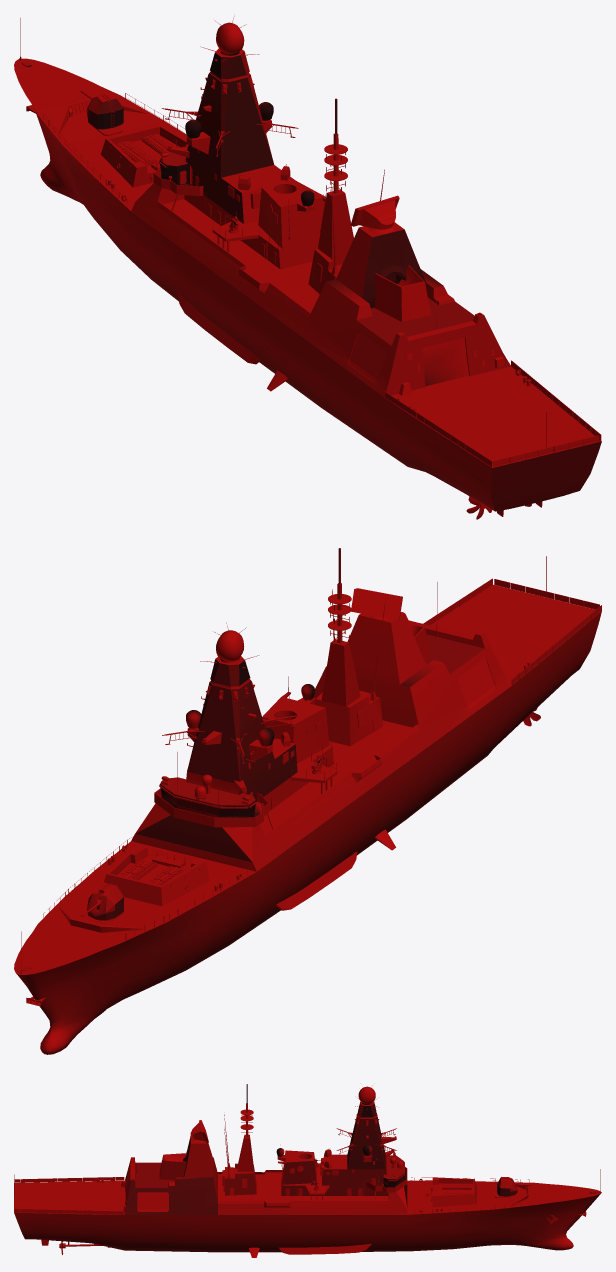
File: Full Ship Model 5.fbx
3 renders of one model, top to bottom at view 1: azimuth 30°, elevation 25°; view 2: azimuth 150°, elevation 25°; view 3: azimuth 270°, elevation 25°, orthographic. The views are drawn at different scales.
Parts seen in each view (by area): view 1: Hull, MainDeckBits, FrontParts, O:Wheelhouse, Stabilisers, LRR, RHIB_Door_Port, T45_Radar, Flight_Nets_Port, Flight_Nets_Rear; view 2: Hull, MainDeckBits, FrontParts, O:Wheelhouse, LRR, Stabilisers, RHIB_Door_Port, T45_Radar, Flight_Nets_Rear, O:Wheelhouse_Windows; view 3: Hull, MainDeckBits, FrontParts, O:Wheelhouse, Stabilisers, RHIB_Door_Starboard, Flight_Nets_Stbd, Flight_Nets_Port, LRR, T45_Radar.
Boxes of the visible parts, x1=… form: Hull: x1=14, y1=58, x2=601, y2=519; MainDeckBits: x1=161, y1=46, x2=384, y2=294; FrontParts: x1=19, y1=56, x2=520, y2=400; O:Wheelhouse: x1=153, y1=94, x2=531, y2=410; Stabilisers: x1=177, y1=292, x2=288, y2=391; LRR: x1=350, y1=195, x2=399, y2=233; RHIB_Door_Port: x1=348, y1=332, x2=386, y2=382; T45_Radar: x1=215, y1=16, x2=246, y2=55; Flight_Nets_Port: x1=384, y1=391, x2=492, y2=467; Flight_Nets_Rear: x1=493, y1=435, x2=599, y2=466; Hull: x1=14, y1=584, x2=601, y2=1054; MainDeckBits: x1=162, y1=548, x2=385, y2=811; FrontParts: x1=20, y1=671, x2=519, y2=974; O:Wheelhouse: x1=154, y1=582, x2=531, y2=829; LRR: x1=351, y1=588, x2=402, y2=620; Stabilisers: x1=276, y1=829, x2=395, y2=910; RHIB_Door_Port: x1=458, y1=658, x2=495, y2=708; T45_Radar: x1=214, y1=622, x2=246, y2=663; Flight_Nets_Rear: x1=494, y1=579, x2=599, y2=609; O:Wheelhouse_Windows: x1=161, y1=788, x2=254, y2=815; Hull: x1=14, y1=1135, x2=601, y2=1254; MainDeckBits: x1=222, y1=1084, x2=396, y2=1200; FrontParts: x1=111, y1=1177, x2=600, y2=1213; O:Wheelhouse: x1=97, y1=1136, x2=407, y2=1211; Stabilisers: x1=248, y1=1243, x2=371, y2=1257; RHIB_Door_Starboard: x1=137, y1=1192, x2=168, y2=1211; Flight_Nets_Stbd: x1=14, y1=1209, x2=124, y2=1214; Flight_Nets_Port: x1=14, y1=1177, x2=124, y2=1182; LRR: x1=190, y1=1120, x2=208, y2=1142; T45_Radar: x1=358, y1=1086, x2=375, y2=1104.
Bounding box in the file's own units: 2127 × 4713 × 15240.
